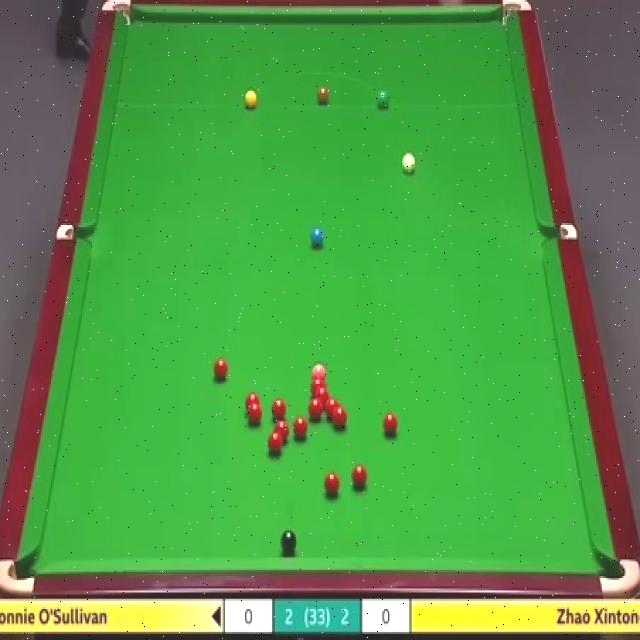black-ball: (280, 527, 297, 555)
blue-ball: (309, 226, 325, 250)
brown-ball: (316, 87, 329, 105)
green-ball: (377, 90, 389, 110)
pink-ball: (310, 361, 326, 376)
red-ball: (269, 431, 285, 458), (293, 416, 309, 439), (351, 465, 367, 488), (383, 413, 399, 436), (333, 405, 348, 429), (244, 392, 262, 412), (213, 356, 228, 380), (324, 472, 340, 494), (248, 405, 263, 428), (276, 420, 291, 440), (306, 399, 323, 416), (272, 401, 286, 421), (326, 400, 341, 417), (312, 386, 330, 399), (309, 378, 327, 388)
white-ball: (401, 152, 416, 174)
yellow-ball: (244, 88, 258, 110)
